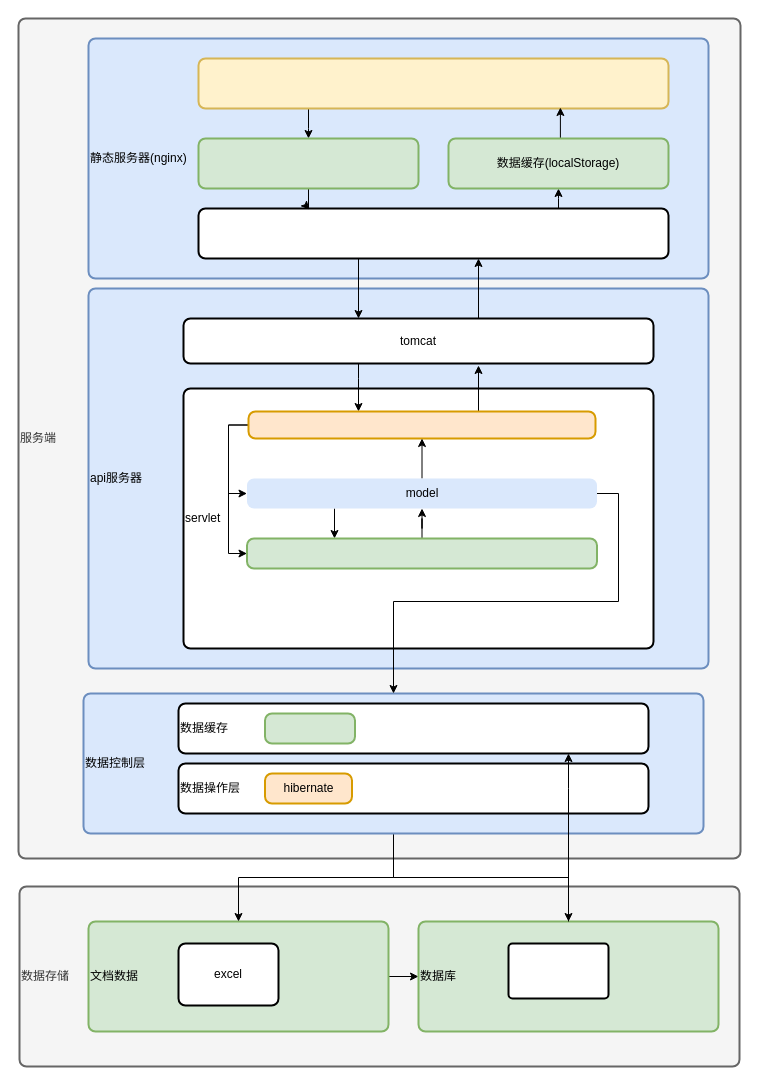
This 758x1084 diagram has some shape labels left out. Here are the shapes that lost their labels. From the top down, the centre of each, then its label:
the point at 433,83: 静态文件
the point at 308,163: 数据请求(axios)
the point at 433,233: 反向代理(nginx_proxy)
the point at 421,424: control
the point at 422,553: RestfulApi
the point at 310,728: redis
the point at 558,970: mysql
